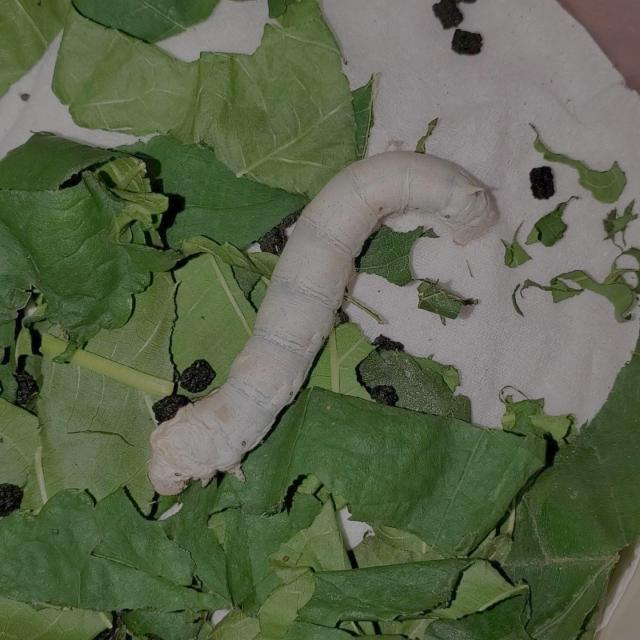Healthy: (123, 119, 503, 528)
